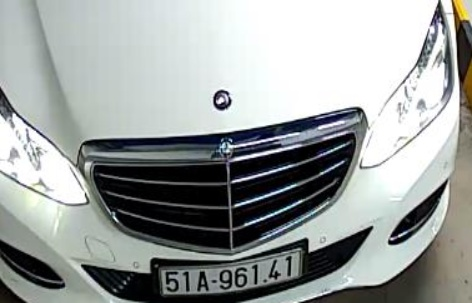plate: (154, 254, 311, 296)
